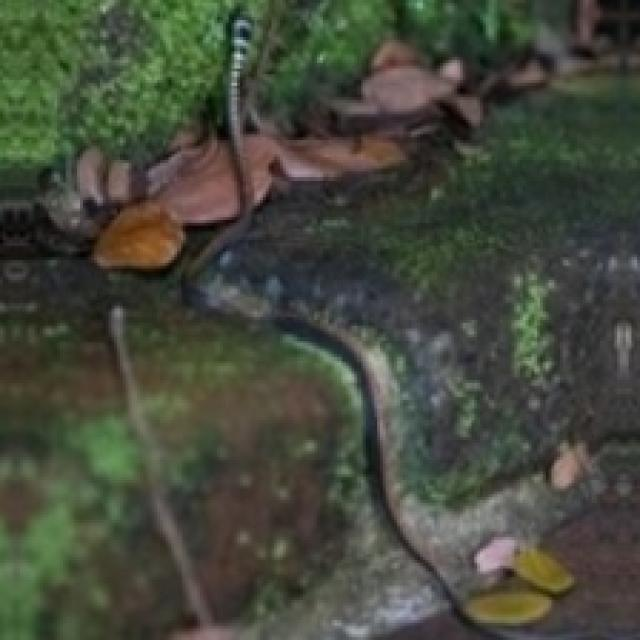paradise tree snake: (191, 77, 637, 637), (0, 229, 486, 637)
